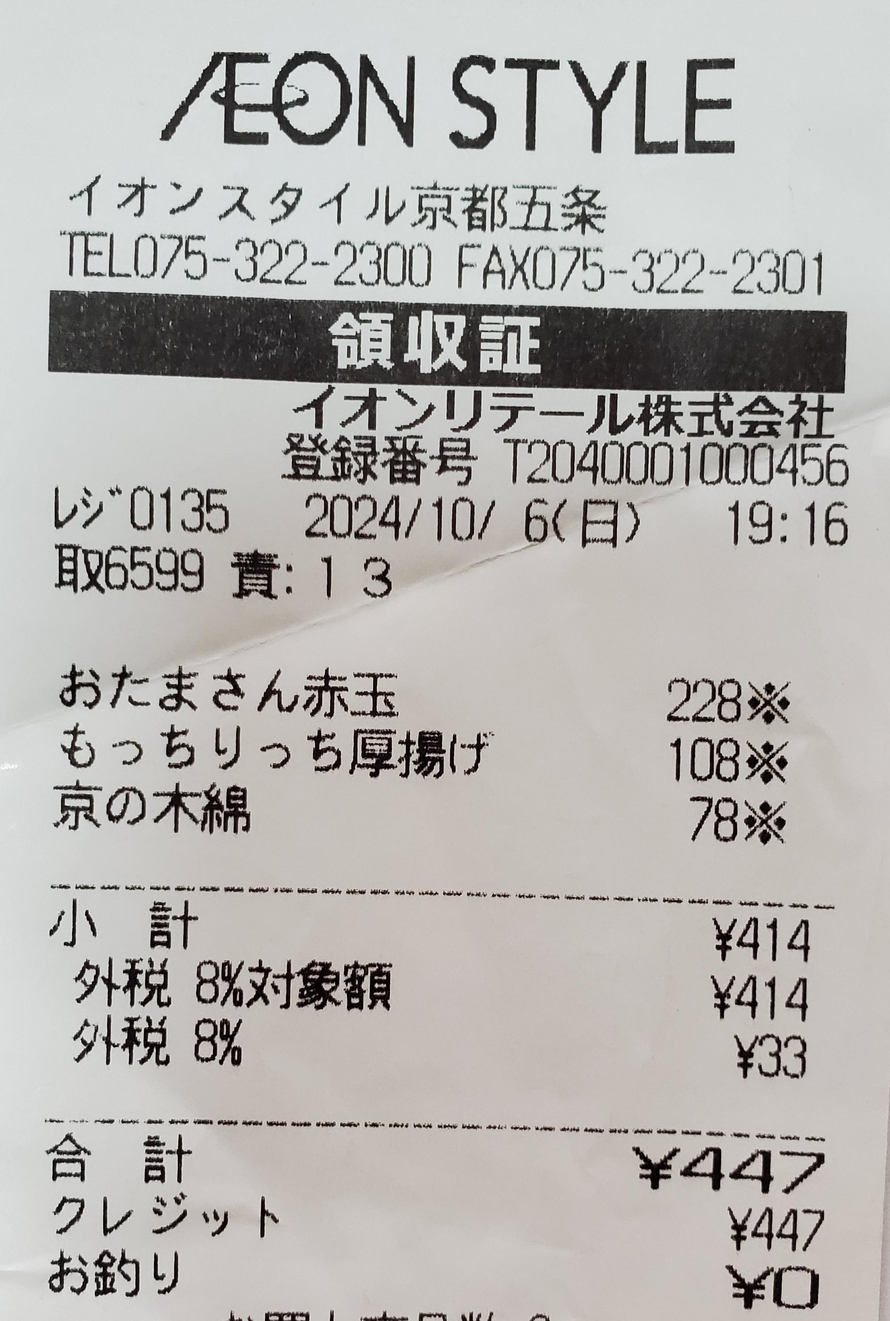TEL: (130, 225, 437, 293)
date: (299, 491, 552, 548)
total: (680, 1134, 837, 1194)
